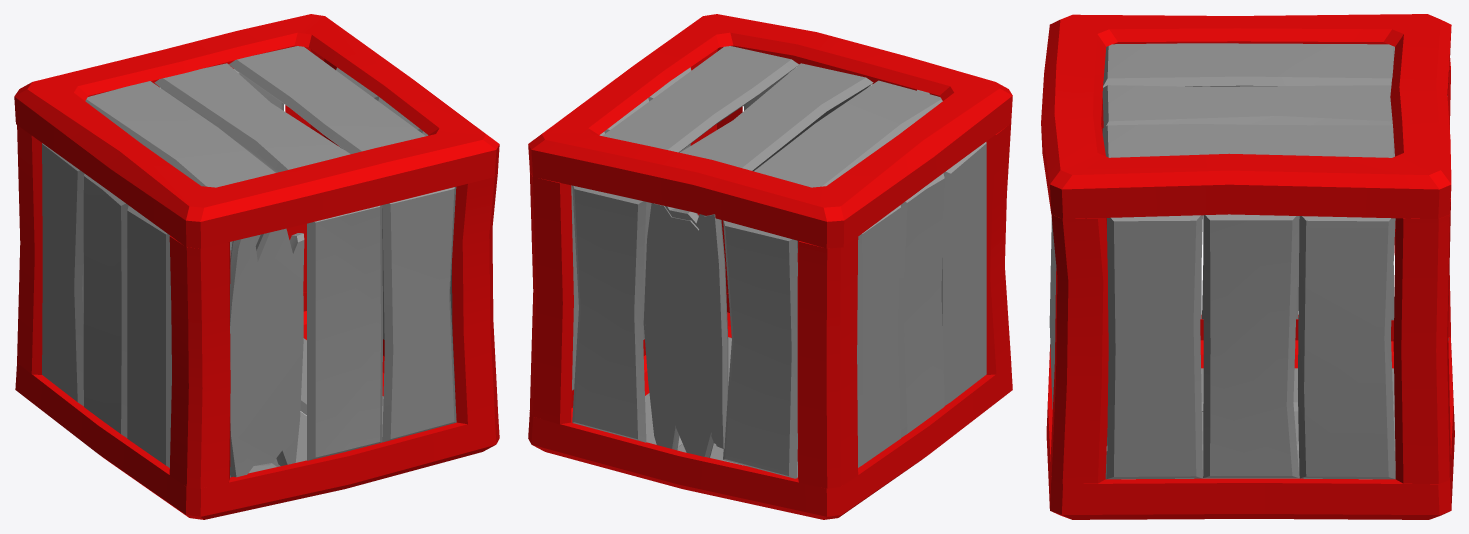
Rendered from MESH_Props_WoodBox_02.fbx.
3 views of the same model, side by side, from view 1: azimuth 30°, elevation 25°; view 2: azimuth 150°, elevation 25°; view 3: azimuth 270°, elevation 25° (orthographic). The views are drawn at different scales.
Parts seen in each view (by area): view 1: MESH_Props_WoodBox_02; view 2: MESH_Props_WoodBox_02; view 3: MESH_Props_WoodBox_02.
Boxes of the visible parts, x1,y1,x2,y2 form: MESH_Props_WoodBox_02: [14, 14, 499, 519]; MESH_Props_WoodBox_02: [528, 14, 1012, 519]; MESH_Props_WoodBox_02: [1041, 14, 1454, 519].
Bounding box in the file's own units: 1.5 × 1.43 × 1.53.
